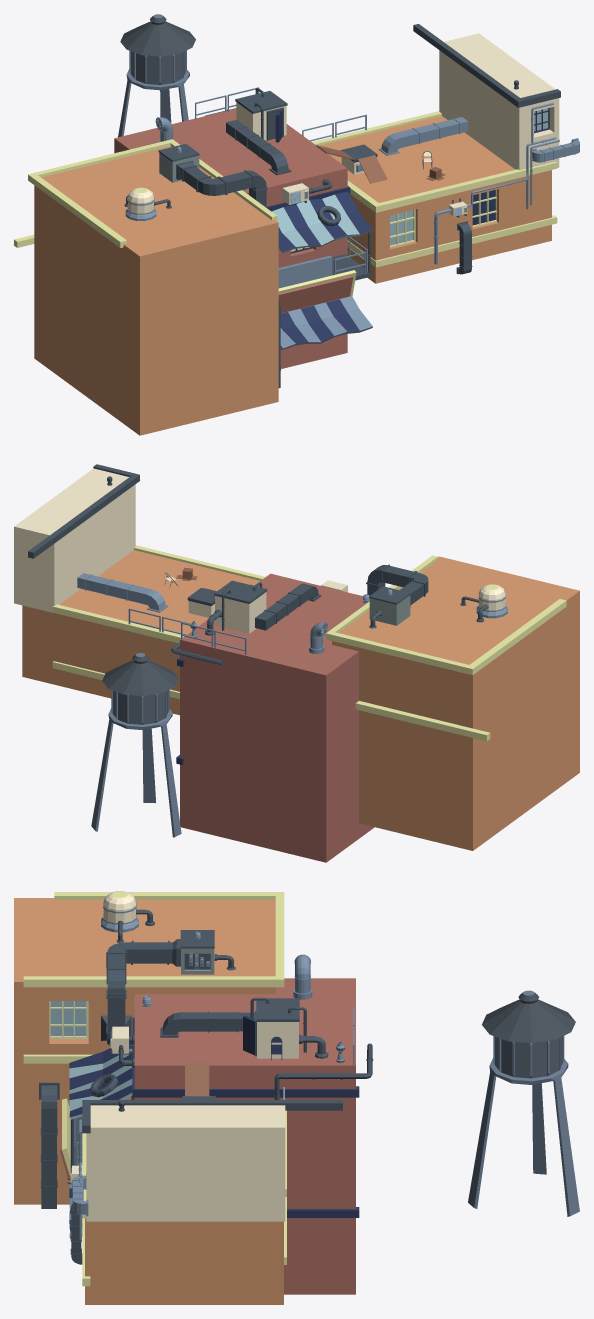
Rendered from Second_Level_Fixed.fbx.
3 views of the same model, one above another, from view 1: azimuth 30°, elevation 25°; view 2: azimuth 150°, elevation 25°; view 3: azimuth 270°, elevation 25° (orthographic). The views are drawn at different scales.
Visible parts, largest first — view 1: Building4, Building1, Building3, Building2, Cylinder, Roof_Corrugated_Sheet1_1, Roof_Corrugated_Sheet1_2, Building_Border1_1, Building_Border3_1, Billboard, Airvent2_1, Building_Border4_1 (+13 smaller); view 2: Building4, Building3, Building1, Building2, Cylinder, Building_Border3_1, Building_Border1_1, Building_Small2, Building_Border4_1, Airvent1_3, Airvent2_1, Building_Border5_1 (+4 smaller); view 3: Building3, Building4, Building2, Building1, Cylinder, Building_Border3_1, Airvent2_1, Roof_Corrugated_Sheet1_1, Building_Small2, Airvent1_2, Building_Border4_1, Building_Border2_3 (+13 smaller).
Boxes of the visible parts, x1,y1,x2,y2 form: Building4: [34, 146, 278, 435]; Building1: [319, 115, 551, 283]; Building3: [114, 108, 347, 368]; Building2: [439, 33, 559, 170]; Cylinder: [118, 14, 195, 137]; Roof_Corrugated_Sheet1_1: [272, 191, 372, 252]; Roof_Corrugated_Sheet1_2: [280, 296, 372, 349]; Building_Border1_1: [312, 111, 557, 212]; Building_Border3_1: [28, 139, 277, 247]; Billboard: [278, 270, 356, 313]; Airvent2_1: [176, 160, 267, 207]; Building_Border4_1: [413, 24, 560, 107]; Building4: [332, 556, 579, 850]; Building3: [180, 573, 374, 862]; Building1: [22, 550, 259, 715]; Building2: [14, 468, 135, 612]; Cylinder: [91, 653, 181, 837]; Building_Border3_1: [326, 555, 566, 675]; Building_Border1_1: [52, 545, 265, 642]; Building_Small2: [214, 580, 267, 633]; Building_Border4_1: [28, 464, 139, 558]; Airvent1_3: [77, 573, 168, 612]; Airvent2_1: [366, 564, 428, 606]; Building_Border5_1: [355, 701, 490, 741]; Building3: [134, 978, 355, 1294]; Building4: [14, 898, 275, 1204]; Building2: [86, 1105, 285, 1221]; Building1: [85, 1218, 283, 1304]; Cylinder: [468, 990, 579, 1216]; Building_Border3_1: [23, 892, 284, 987]; Airvent2_1: [101, 939, 180, 1044]; Roof_Corrugated_Sheet1_1: [69, 1042, 132, 1119]; Building_Small2: [256, 998, 299, 1058]; Airvent1_2: [39, 1082, 59, 1208]; Building_Border4_1: [82, 1100, 342, 1133]; Building_Border2_3: [132, 1017, 359, 1097].
Bounding box in the file's own units: 5690 × 2778 × 4634.
